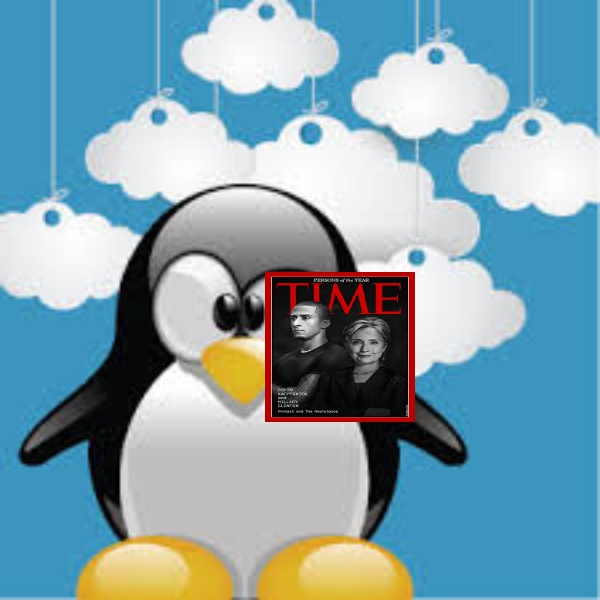time_cover: (255, 264, 424, 431)
